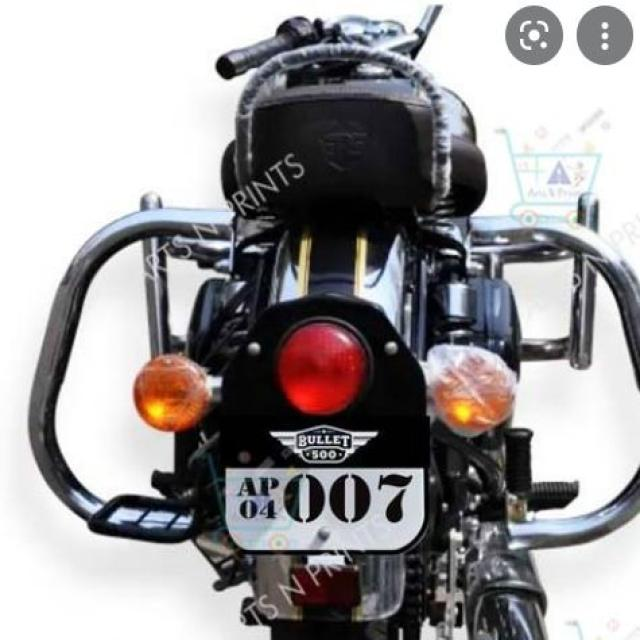number plate: (228, 469, 421, 538)
